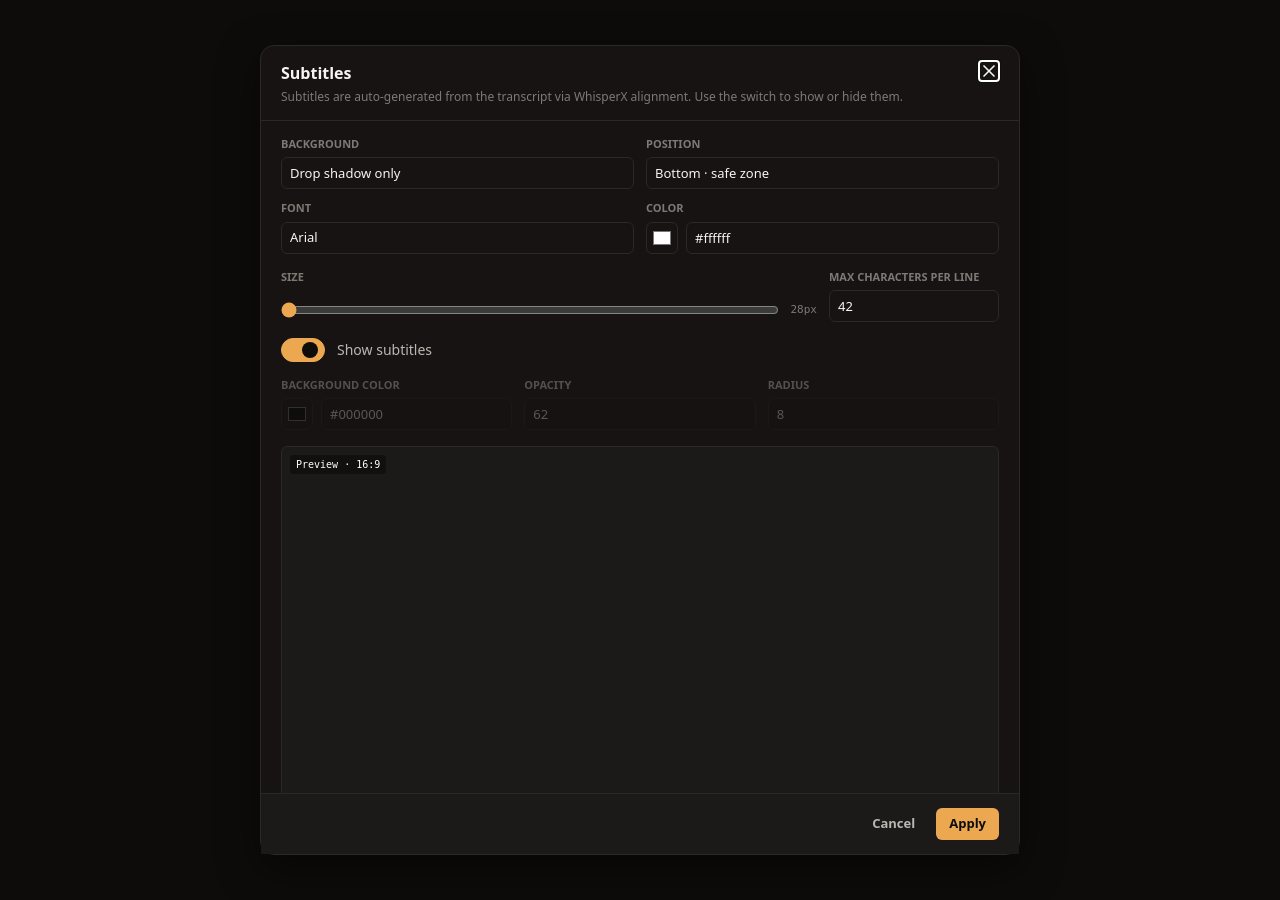
Test: EditorModal › clamps max characters per line and updates the live preview wrapping
Replace the text in the field labelled "Max characters per line" with "10": {"x": 914, "y": 306} [829,290,999,322]
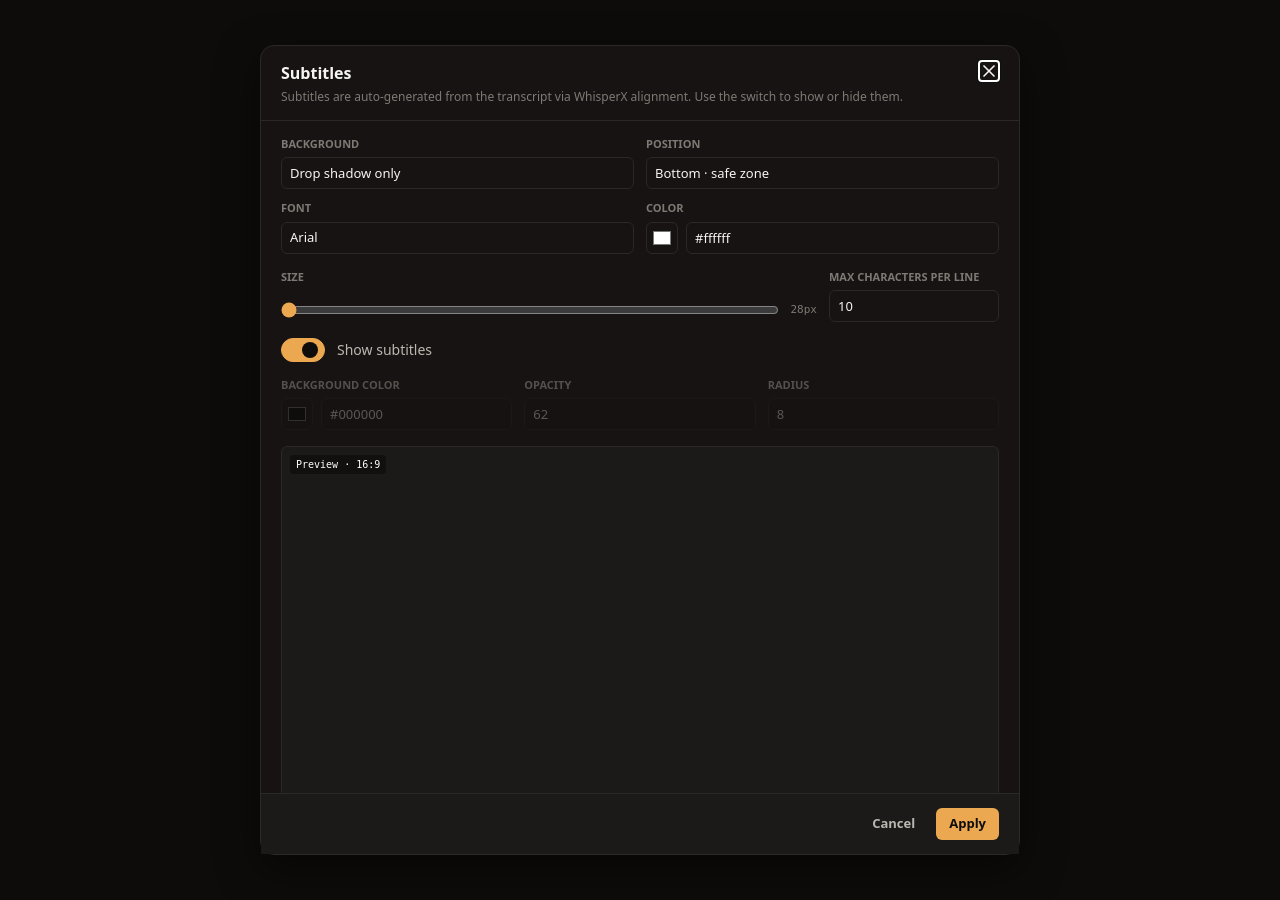
Leave the field labelled "Max characters per line", box [829,290,999,322]
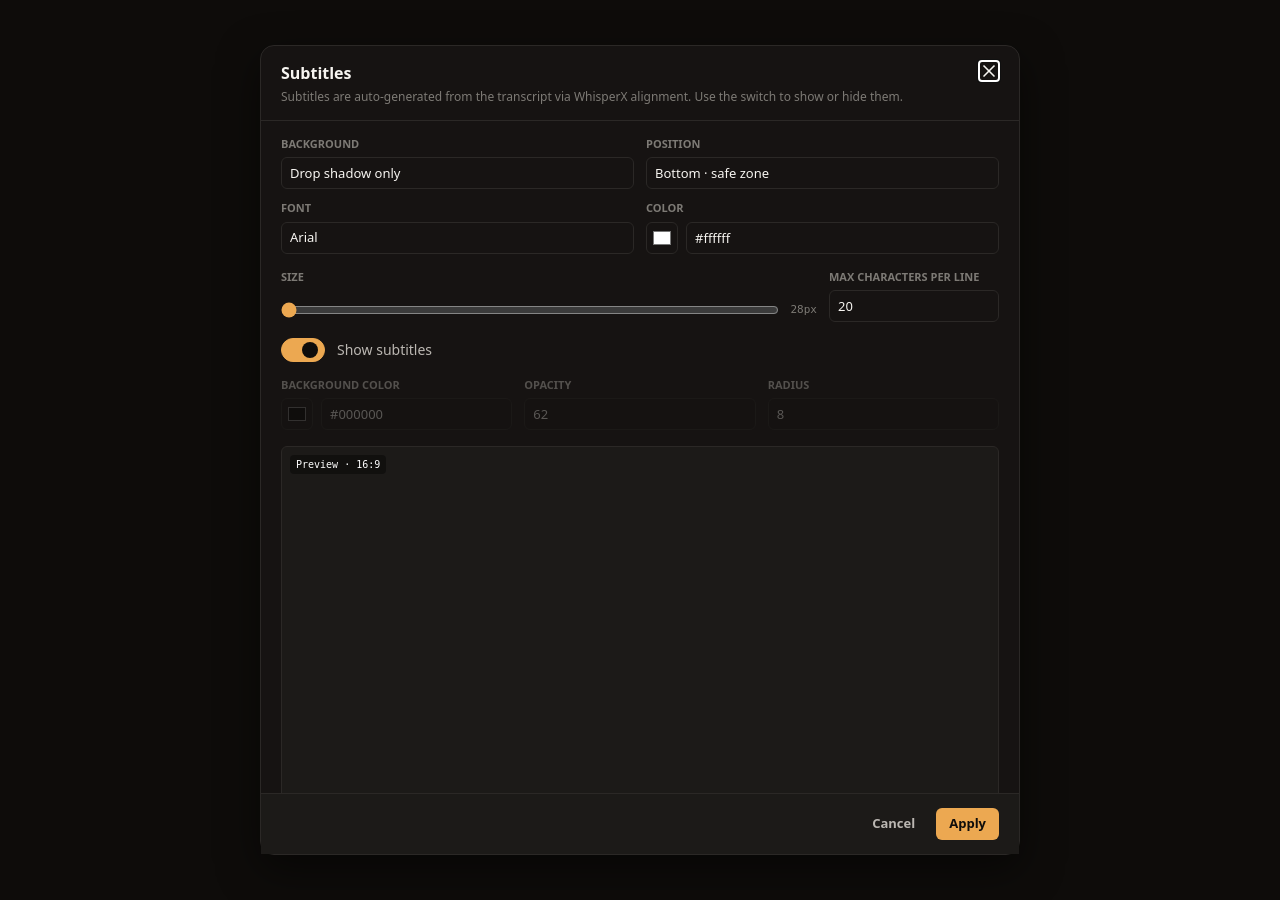
Now the field labelled "Max characters per line" holds "20"
Replace the text in the field labelled "Max characters per line" with "100": {"x": 914, "y": 306} [829,290,999,322]
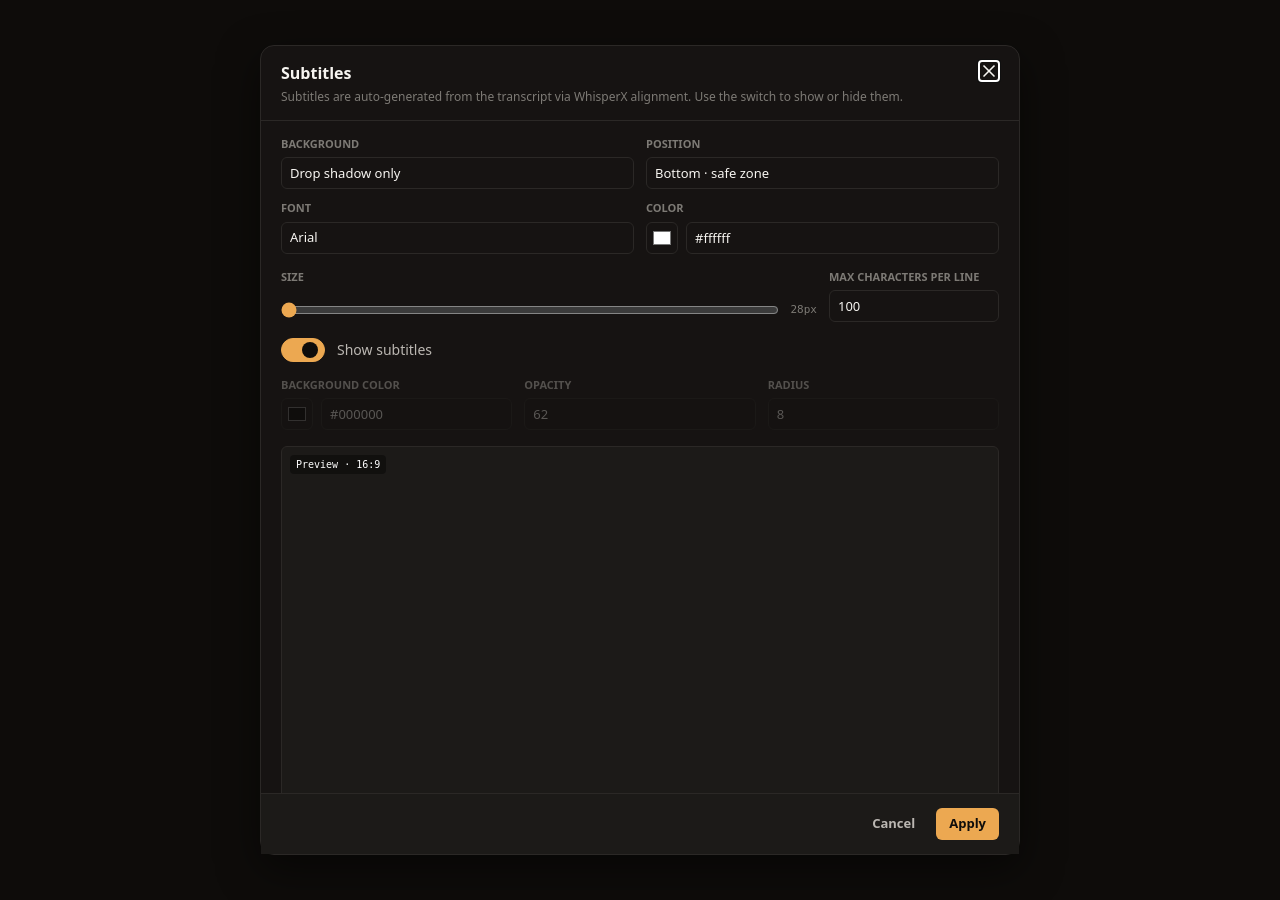
Leave the field labelled "Max characters per line", box [829,290,999,322]
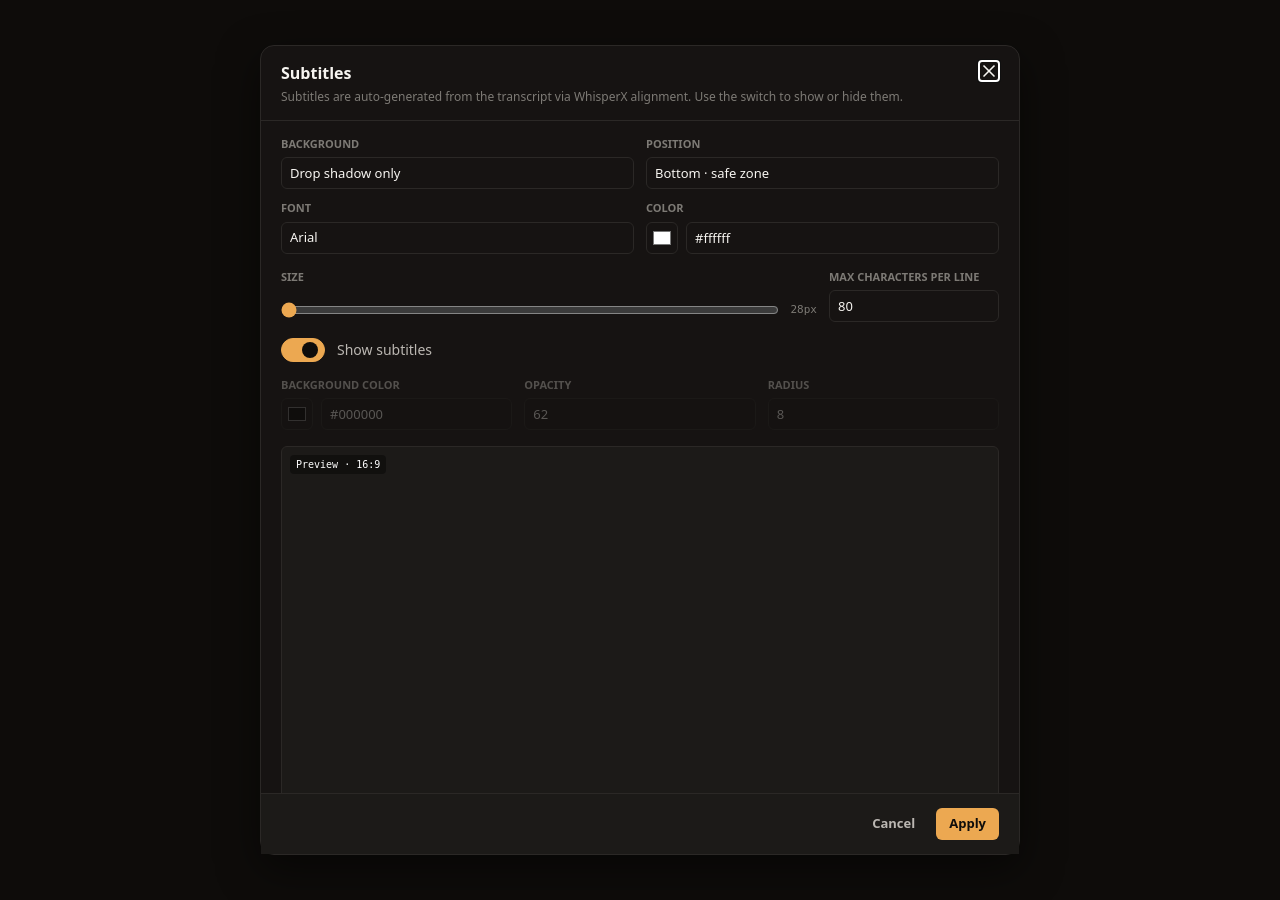
Now the field labelled "Max characters per line" holds "80", box [829,290,999,322]
